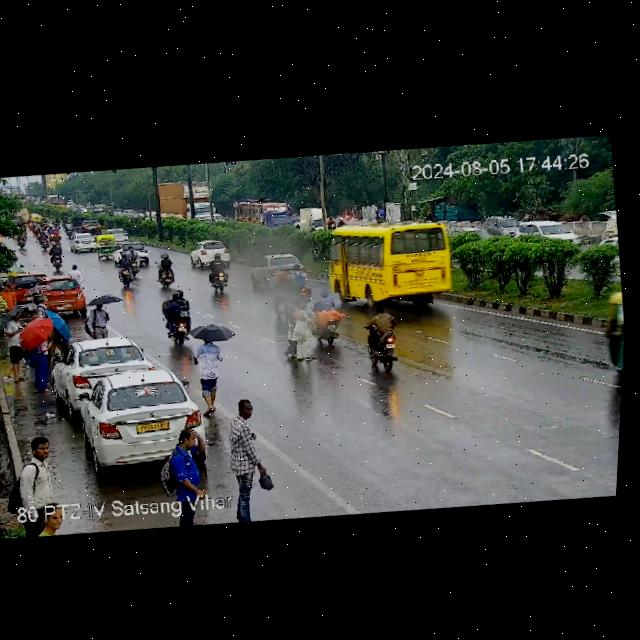bus: (325, 205, 465, 315)
car: (68, 364, 205, 477), (50, 329, 156, 405), (592, 283, 627, 386), (245, 246, 308, 284), (517, 210, 584, 245), (40, 275, 89, 315), (188, 235, 234, 268), (68, 229, 102, 254), (95, 233, 119, 260), (600, 217, 620, 249), (78, 217, 103, 234)
motorcycle: (362, 304, 404, 372), (158, 286, 197, 349), (310, 286, 344, 348), (110, 243, 150, 289), (265, 262, 295, 314), (149, 250, 181, 291), (200, 258, 233, 297), (27, 215, 64, 246), (286, 262, 311, 306), (41, 241, 73, 272), (14, 230, 27, 250), (64, 220, 73, 239)
person: (222, 392, 277, 523), (6, 434, 64, 530), (162, 423, 215, 525), (188, 331, 235, 417), (276, 299, 314, 366), (25, 328, 56, 398), (30, 499, 75, 539), (2, 306, 25, 374), (87, 295, 110, 339), (67, 262, 88, 288), (28, 291, 48, 318), (0, 281, 17, 308)
